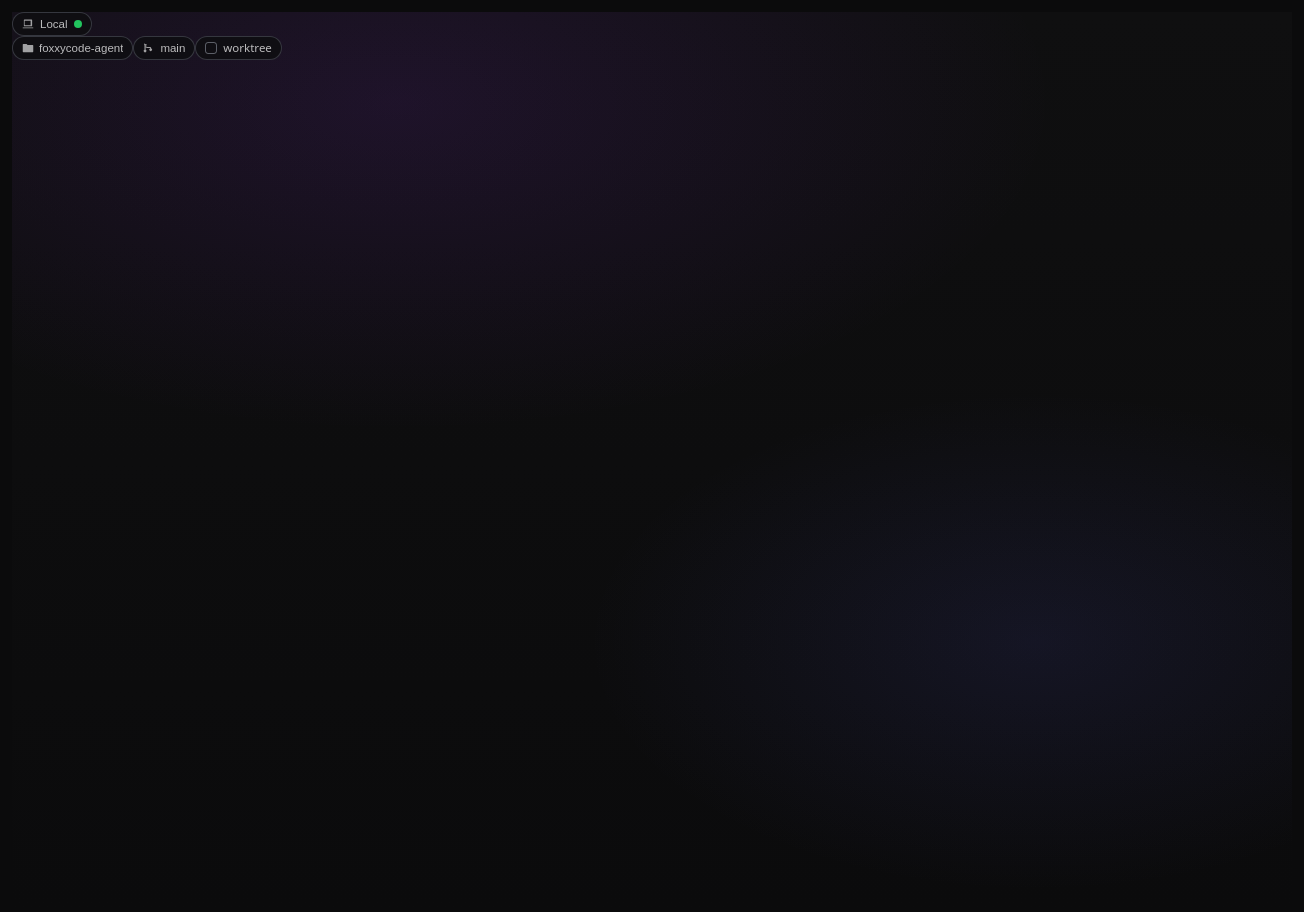
WorkspaceChips › lists recent folders with the current workspace checked
This screenshot has width=1304, height=912.
Click the button with test id "composer-workspace-chip" at (73, 48), box [12,36,133,60]
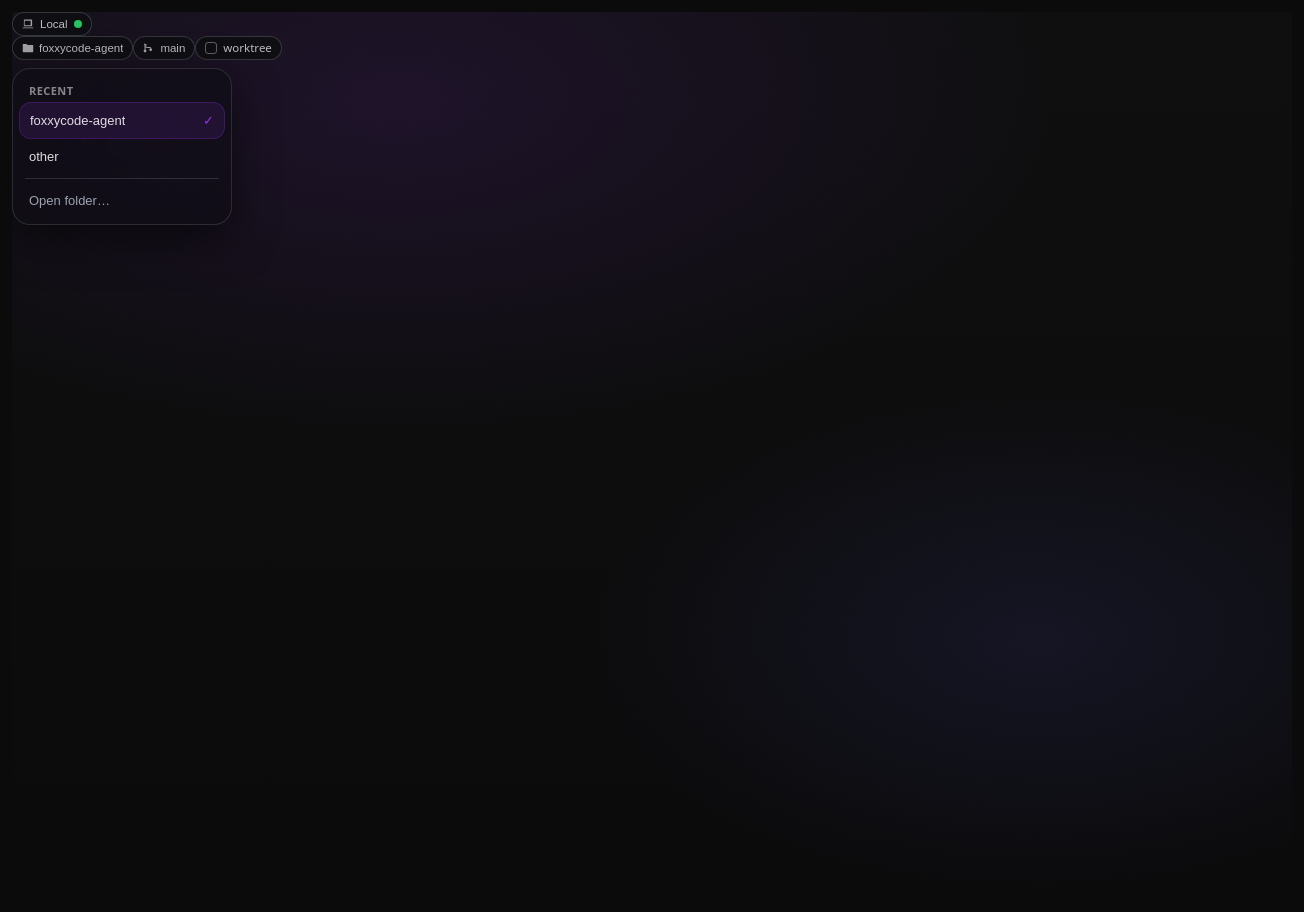
Now the menu with test id "workspace-folder-menu" shows "Recent", box [29,83,74,98]
Now the menu item with test id "workspace-recent-row-other" is shown, box [19,139,225,174]
